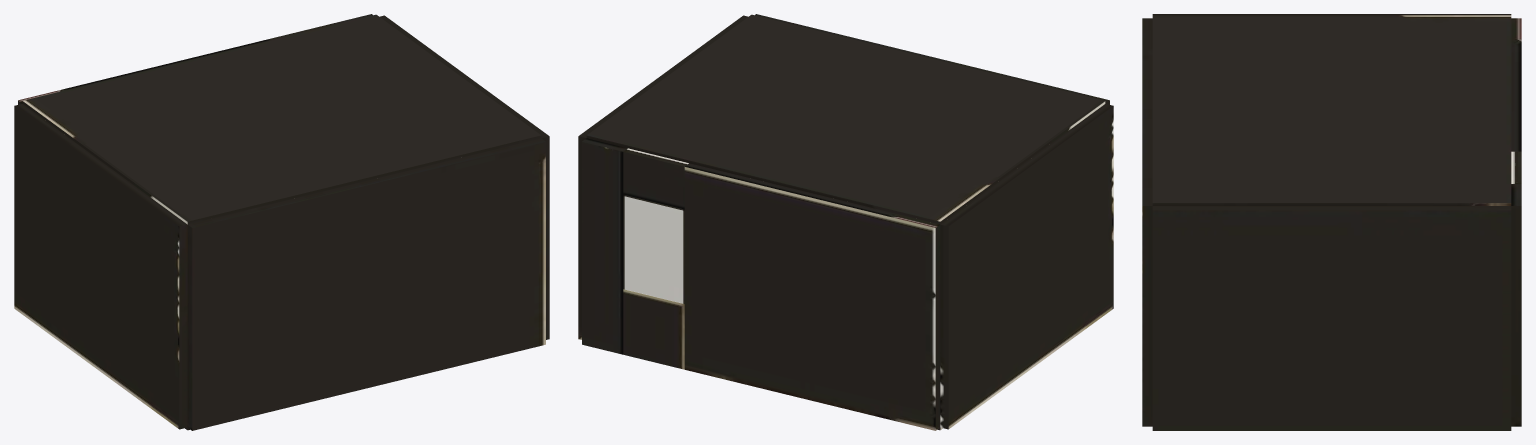
The model's file is study-mobile.glb.
3 views of the same model, side by side, from view 1: azimuth 30°, elevation 25°; view 2: azimuth 150°, elevation 25°; view 3: azimuth 270°, elevation 25° (orthographic). The views are drawn at different scales.
Visible parts, largest first — view 1: wall_south, ceiling, wall_west, wall_east, wall_north_a; view 2: ceiling, wall_north_a, wall_west, wall_north_b, window_east_of_wall_section, wall_north_below, wall_north_above, wall_east, wall_south; view 3: wall_east, ceiling, wall_south, wall_north_b, wall_north_a, wall_west.
Boxes of the visible parts, <box> form: wall_south: <box>187,138,545,430</box>; ceiling: <box>22,14,541,224</box>; wall_west: <box>14,104,187,429</box>; wall_east: <box>379,15,549,339</box>; wall_north_a: <box>18,39,270,104</box>; ceiling: <box>586,14,1105,224</box>; wall_north_a: <box>684,163,940,430</box>; wall_west: <box>940,104,1113,429</box>; wall_north_b: <box>582,138,627,354</box>; window_east_of_wall_section: <box>623,194,684,303</box>; wall_north_below: <box>623,289,684,369</box>; wall_north_above: <box>623,148,688,209</box>; wall_east: <box>578,15,748,339</box>; wall_south: <box>755,14,1109,104</box>; wall_east: <box>1152,206,1511,430</box>; ceiling: <box>1152,15,1511,205</box>; wall_south: <box>1142,18,1152,426</box>; wall_north_b: <box>1511,184,1521,426</box>; wall_north_a: <box>1511,18,1521,151</box>; wall_west: <box>1152,14,1511,15</box>.
Bounding box in the file's own units: 5.44 × 2.93 × 4.44.
Materials: 5 (5 with a texture image).
